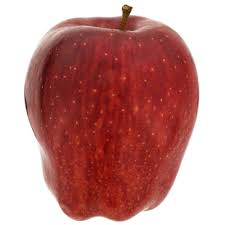apple: (29, 19, 194, 216)
